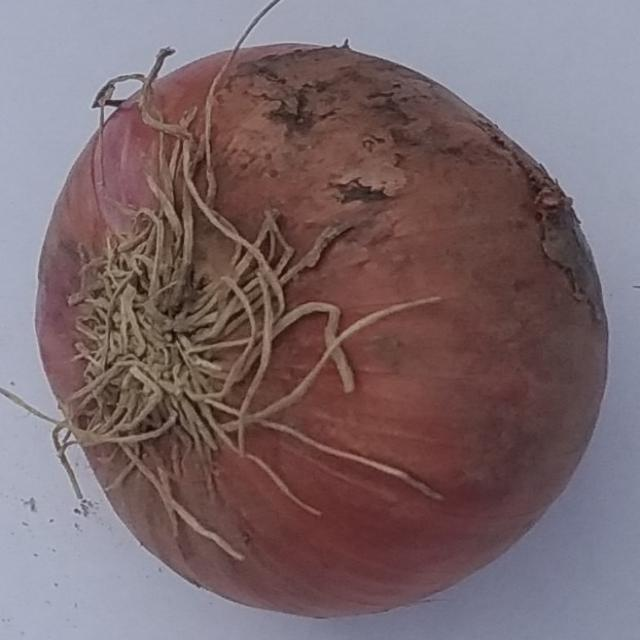onion: (30, 38, 611, 620)
